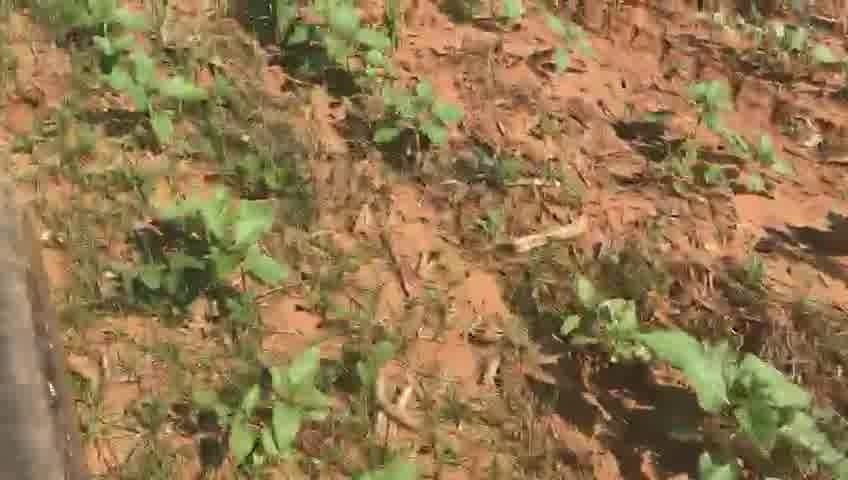sunflower: (637, 322, 834, 469), (201, 348, 340, 469), (150, 195, 289, 306), (101, 52, 207, 152), (293, 4, 391, 87), (562, 269, 655, 350), (370, 76, 466, 153), (712, 126, 794, 202), (536, 12, 597, 85), (690, 75, 736, 133)
